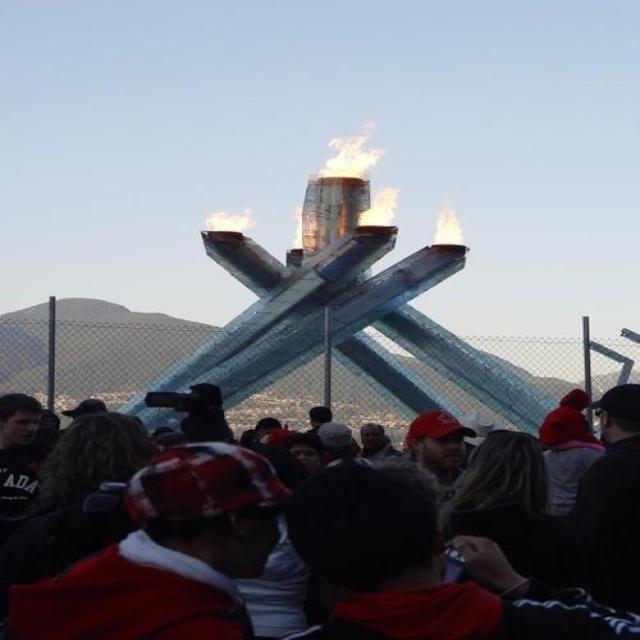Fire: (320, 130, 386, 176), (357, 188, 399, 227), (432, 204, 464, 244), (206, 209, 254, 232)
